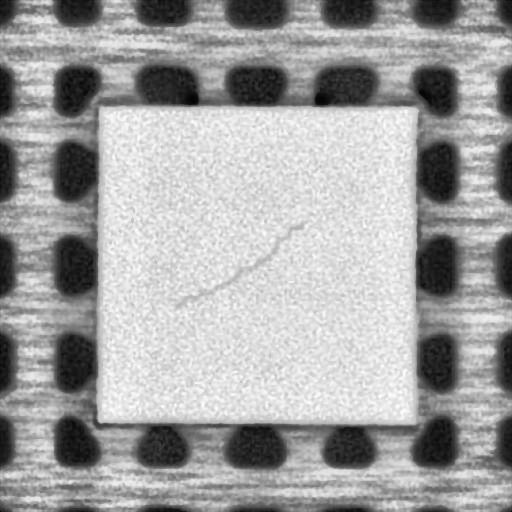DIE_CRACK: (175, 218, 303, 308)
